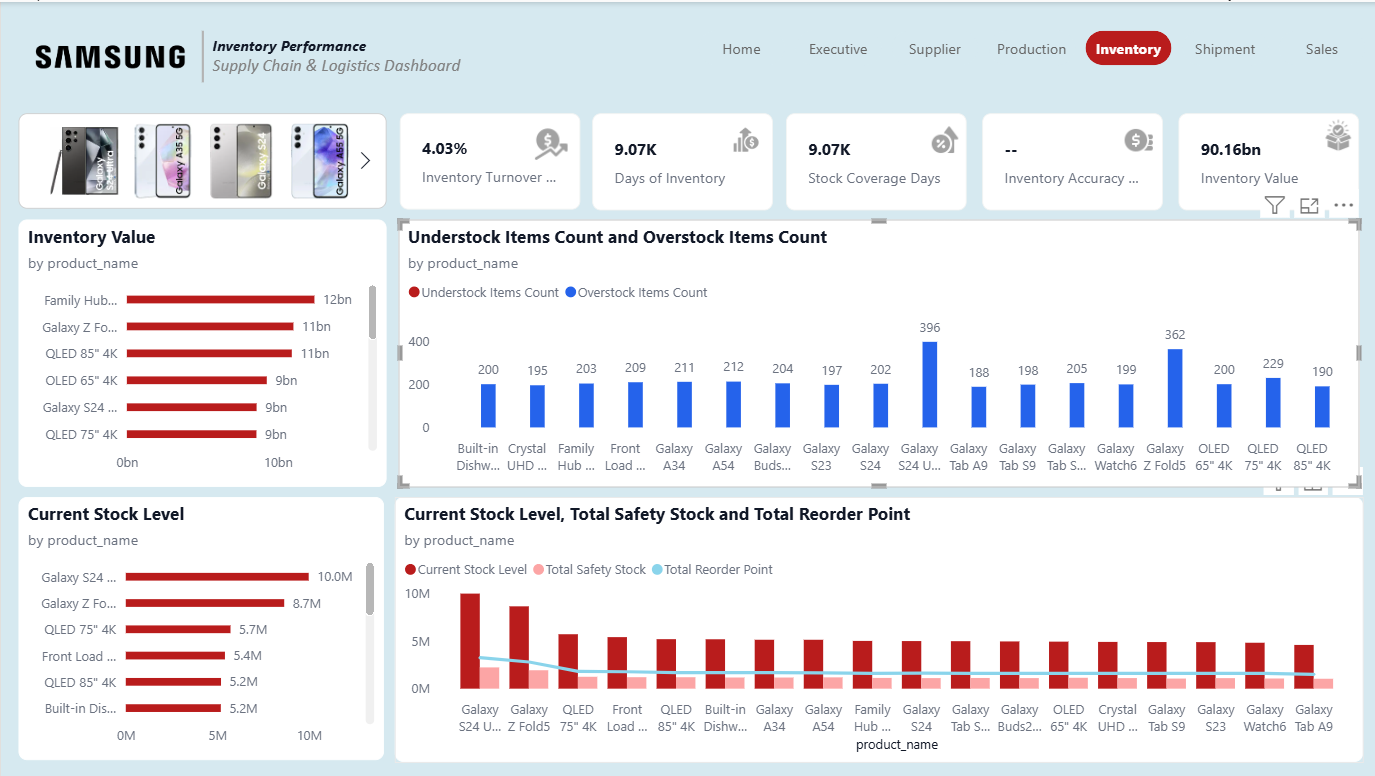

Layout of this report page (visuals, bound fields, positions):
{"tool":"powerbi","page":{"name":"Inventory","canvas":[1280,720],"ordinal":4},"visuals":[{"type":"lineClusteredColumnComboChart","fields":{"Category":["dim_product.product_name"],"Y":["MeasureTable.Current Stock Level","MeasureTable.Total Safety Stock"],"Y2":["MeasureTable.Total Reorder Point"]},"box":[366.7,460.9,900.7,246.7],"z":0},{"type":"clusteredColumnChart","fields":{"Category":["dim_product.product_name"],"Y":["MeasureTable.Understock Items Count","MeasureTable.Overstock Items Count"]},"box":[370.2,202.4,894.1,248.8],"z":1000},{"type":"clusteredBarChart","fields":{"Category":["dim_product.product_name"],"Y":["MeasureTable.Current Stock Level"]},"box":[16.3,460.6,340.1,244.8],"z":2000},{"type":"cardVisual","fields":{"Data":["MeasureTable.Inventory Value"]},"box":[1095.2,103.4,168,90],"z":3000},{"type":"cardVisual","fields":{"Data":["MeasureTable.Inventory Turnover Ratio"]},"box":[370.7,103,167.9,89.3],"z":4000},{"type":"cardVisual","fields":{"Data":["MeasureTable.Stock Coverage Days"]},"box":[730.4,102.9,168,90],"z":5000},{"type":"cardVisual","fields":{"Data":["MeasureTable.Inventory Accuracy %"]},"box":[912.8,103.8,168,90],"z":6000},{"type":"cardVisual","fields":{"Data":["MeasureTable.Days of Inventory"]},"box":[550.5,102.9,168,90],"z":7000},{"type":"image","box":[492,111.9,40.5,40.5],"z":8000},{"type":"image","box":[676.7,110.6,32.9,35.4],"z":9000},{"type":"image","box":[857.6,108.1,40.5,40.5],"z":10000},{"type":"image","box":[1039.7,107.7,38,40.5],"z":11000},{"type":"image","box":[1224.4,103.5,39.2,40.5],"z":12000},{"type":"clusteredBarChart","fields":{"Category":["dim_product.product_name"],"Y":["MeasureTable.Inventory Value"]},"box":[16.3,202.1,342.7,248.5],"z":13000},{"type":"image","box":[16.7,26.4,164.3,47.6],"z":14000},{"type":"textbox","box":[192.3,26.4,294.8,48.1],"z":15000},{"type":"shape","box":[159.3,26.5,56.9,48.1],"z":16000},{"type":"pageNavigator","box":[648.8,26.2,621.4,32.1],"z":17000},{"type":"advancedSlicerVisual","fields":{"Values":["dim_product.Img"]},"box":[16.3,102.9,342.7,89.1],"z":18000}]}

Visuals, with their boxes on the page's 1280x720 design canvas (x1, y1, x2, y2). These are canvas units, not pixel positions in the 1375x776 screenshot, which may show the page scaled, cropped or inside an application window:
lineClusteredColumnComboChart - dim_product.product_name x MeasureTable.Current Stock Level: [367,461,1267,708]
clusteredColumnChart - dim_product.product_name x MeasureTable.Understock Items Count: [370,202,1264,451]
clusteredBarChart - dim_product.product_name x MeasureTable.Current Stock Level: [16,461,356,705]
cardVisual - MeasureTable.Inventory Value: [1095,103,1263,193]
cardVisual - MeasureTable.Inventory Turnover Ratio: [371,103,539,192]
cardVisual - MeasureTable.Stock Coverage Days: [730,103,898,193]
cardVisual - MeasureTable.Inventory Accuracy %: [913,104,1081,194]
cardVisual - MeasureTable.Days of Inventory: [550,103,718,193]
image: [492,112,532,152]
image: [677,111,710,146]
image: [858,108,898,149]
image: [1040,108,1078,148]
image: [1224,104,1264,144]
clusteredBarChart - dim_product.product_name x MeasureTable.Inventory Value: [16,202,359,451]
image: [17,26,181,74]
textbox: [192,26,487,74]
shape: [159,26,216,75]
pageNavigator: [649,26,1270,58]
advancedSlicerVisual - dim_product.Img: [16,103,359,192]
